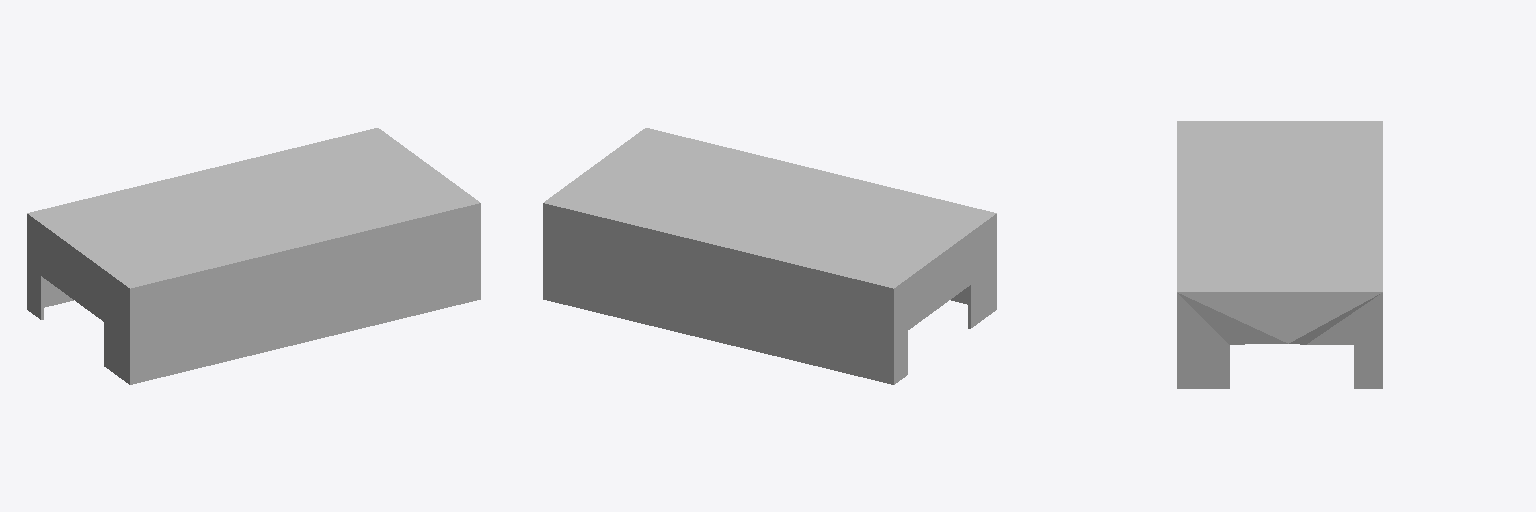
Rendered from nowalls1.obj.
3 views of the same model, side by side, from view 1: azimuth 30°, elevation 25°; view 2: azimuth 150°, elevation 25°; view 3: azimuth 270°, elevation 25° (orthographic).
Visible parts, largest first — view 1: Cube.001; view 2: Cube.001; view 3: Cube.001.
Boxes of the visible parts, box(x1,y1,x2,y2) form: Cube.001: box(27, 128, 480, 384); Cube.001: box(543, 128, 996, 384); Cube.001: box(1177, 121, 1382, 388).
Size of the model in its own units: 8.38 by 2.18 by 4.21.